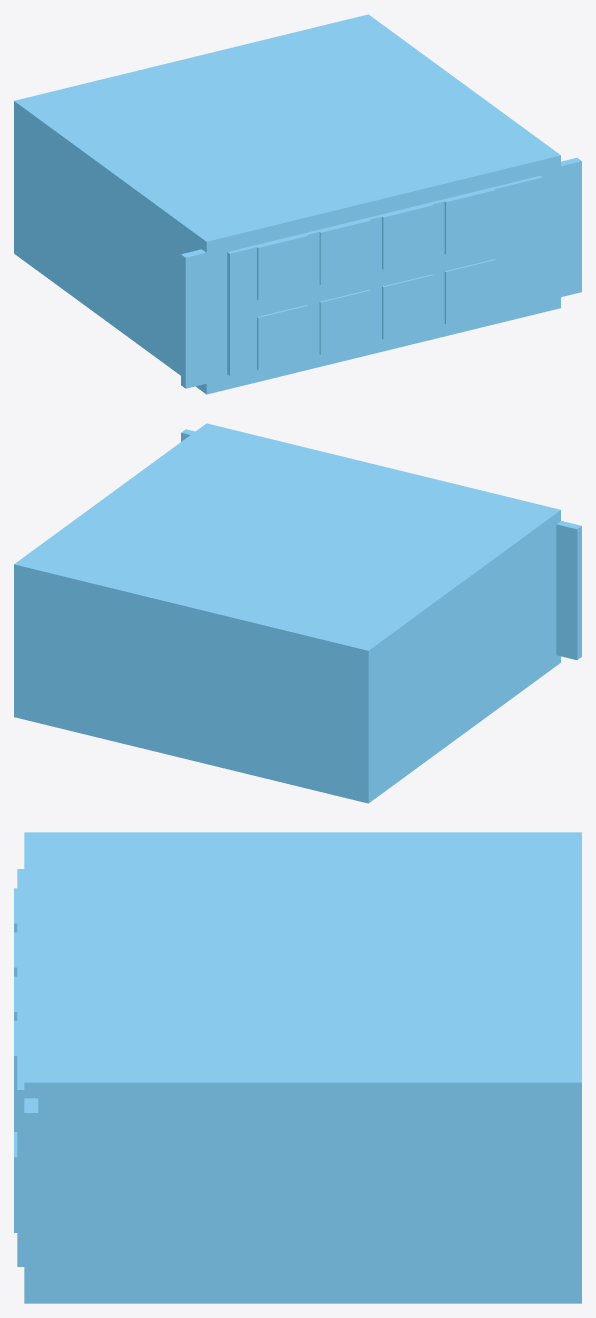
Rendered from server.glb.
3 renders of one model, top to bottom at view 1: azimuth 30°, elevation 25°; view 2: azimuth 150°, elevation 25°; view 3: azimuth 270°, elevation 25°, orthographic. The views are drawn at different scales.
Visible parts, largest first — view 1: CyberDomeAsset; view 2: CyberDomeAsset; view 3: CyberDomeAsset.
Boxes of the visible parts, left/top/right/bottom form: CyberDomeAsset: left=14, top=14, right=581, bottom=394; CyberDomeAsset: left=14, top=423, right=581, bottom=803; CyberDomeAsset: left=14, top=832, right=581, bottom=1303.
Size of the model in its own units: 0.95 by 0.35 by 0.815.
